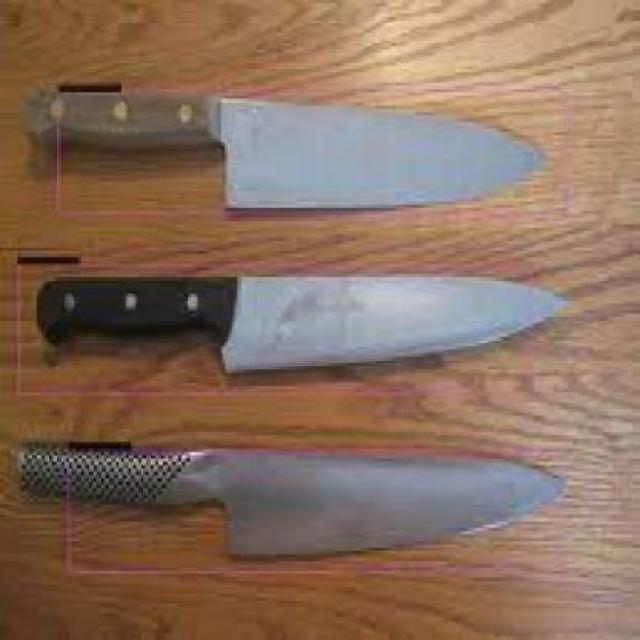-: (117, 49, 543, 242), (152, 403, 571, 582), (143, 249, 574, 394)
